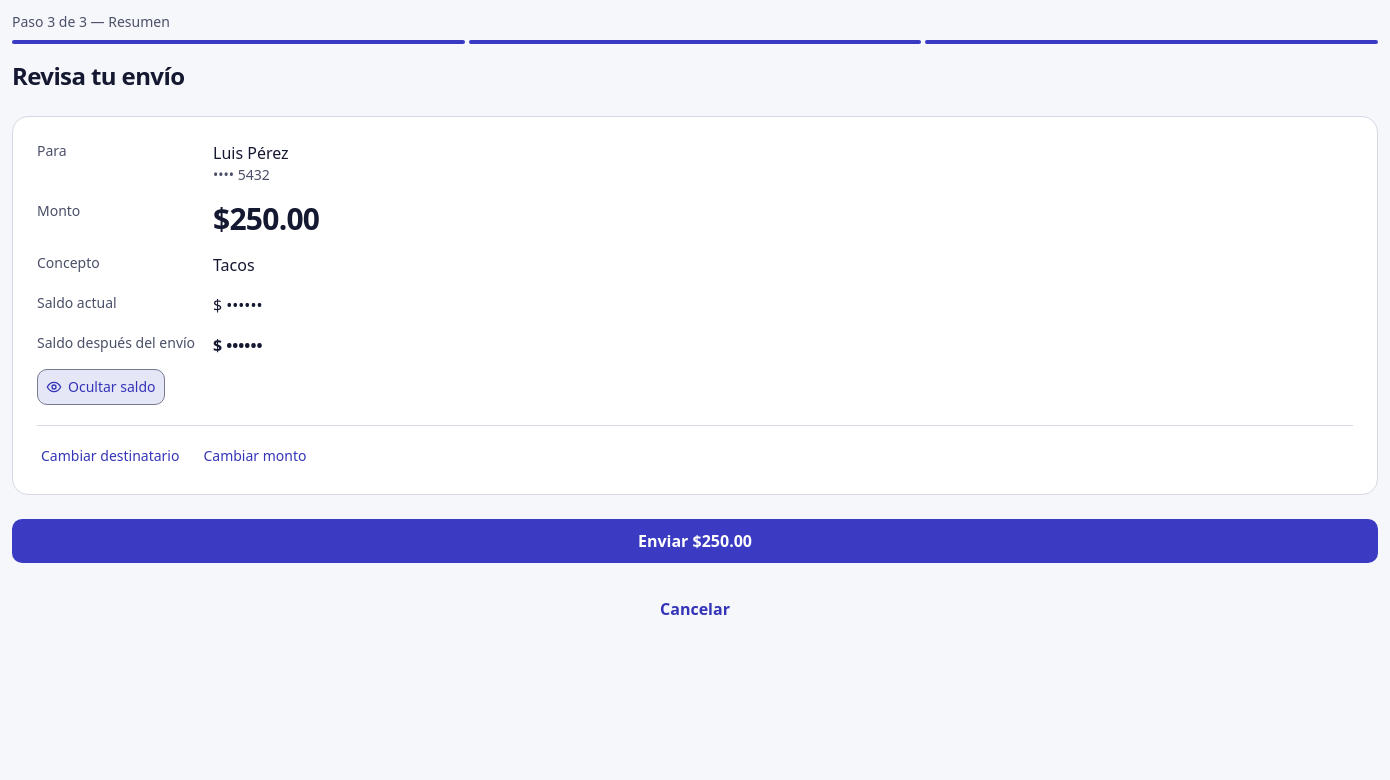
Test: [TC-COMP-14] Confirmation views › [EC-08] insufficient funds with hide-balance on: masked with a reveal control
Click the button "Enviar $250.00".
click(695, 541)  # box [12,519,1378,563]
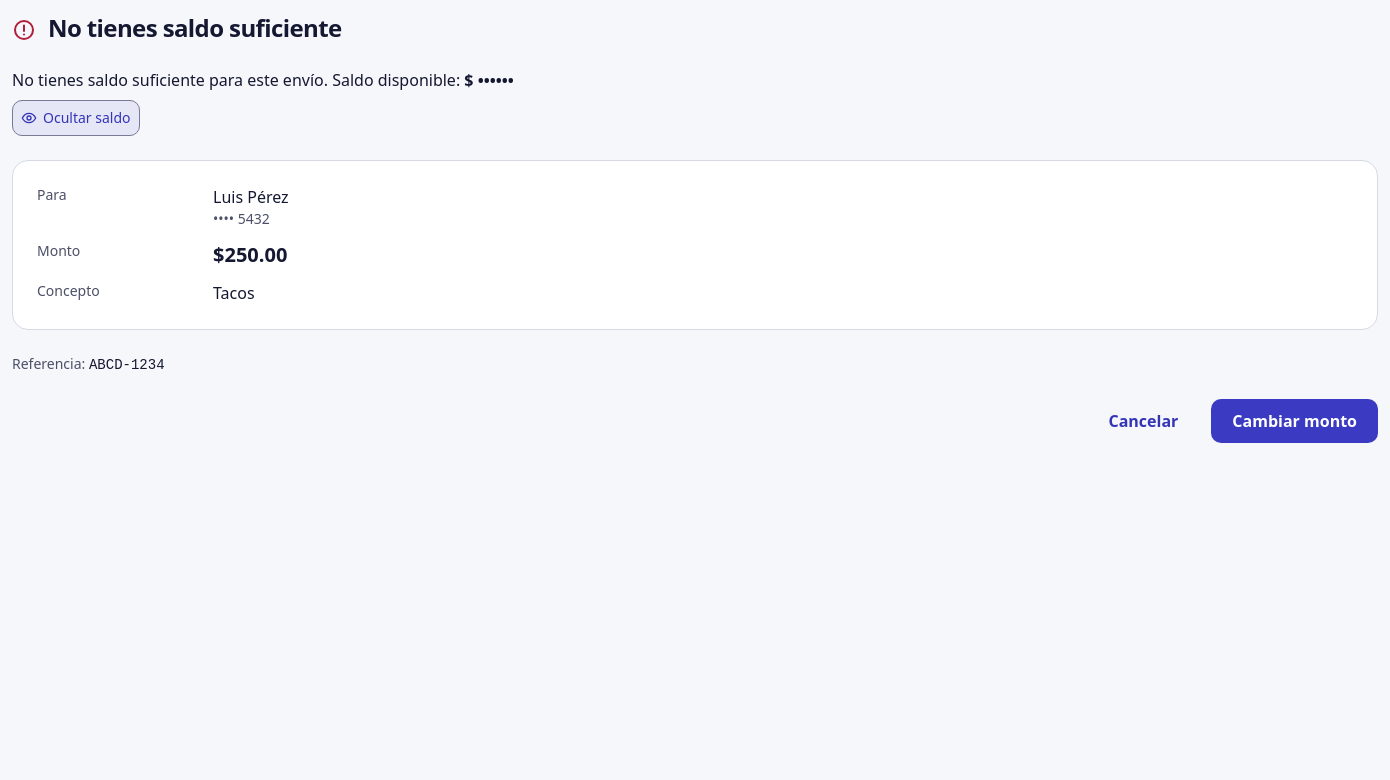
Expected: the heading "No tienes saldo suficiente" is shown, [48,12,342,44]
